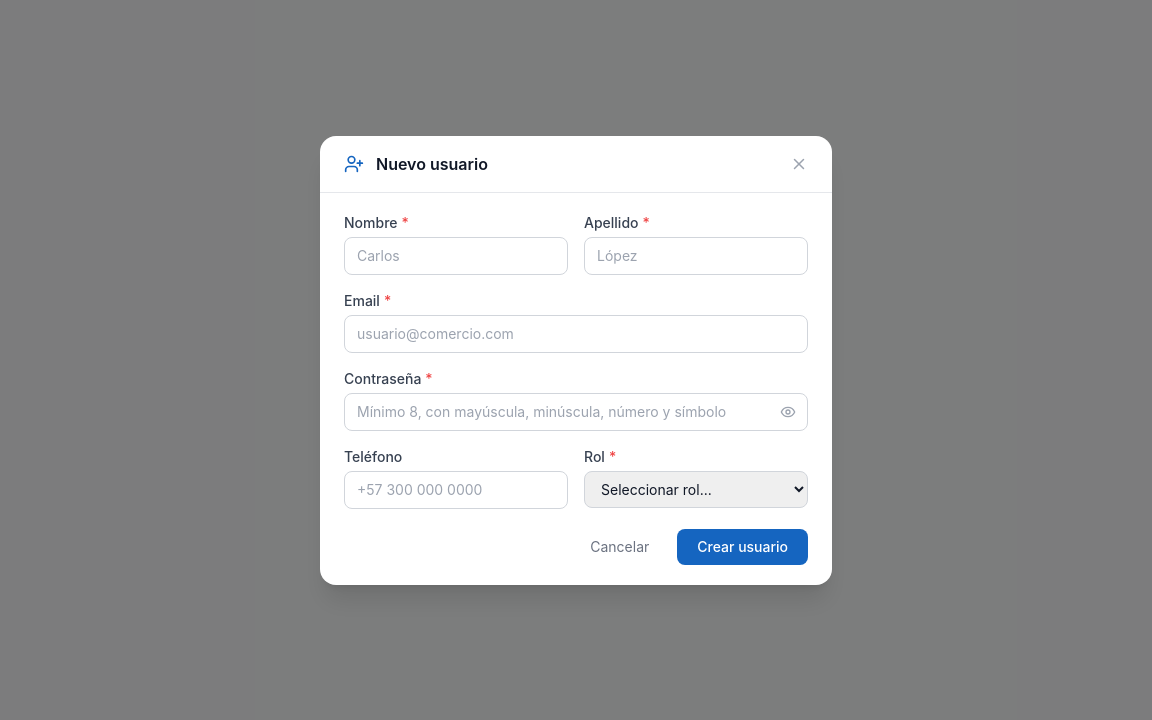
password policy in creation forms › rejects a weak password in UserFormModal before saving
Type "New" into the field with placeholder "Carlos" at (456, 256), box [344,236,568,274]
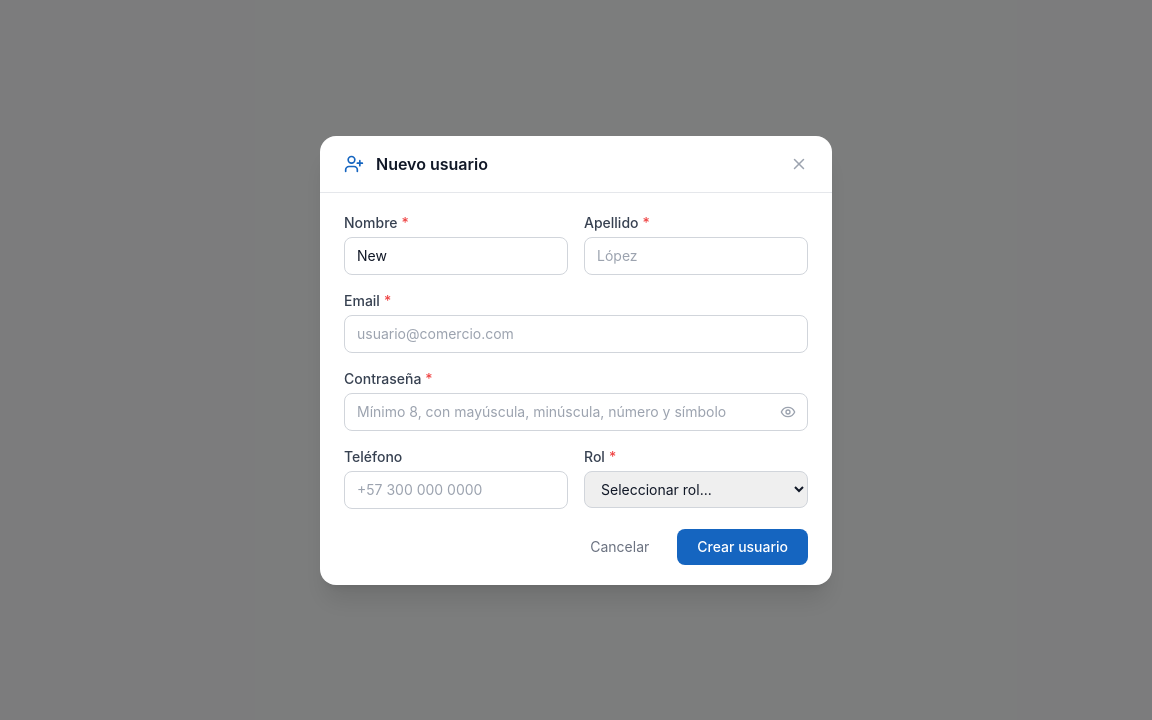
Type "User" into the field with placeholder "López" at (696, 256), box [584,236,808,274]
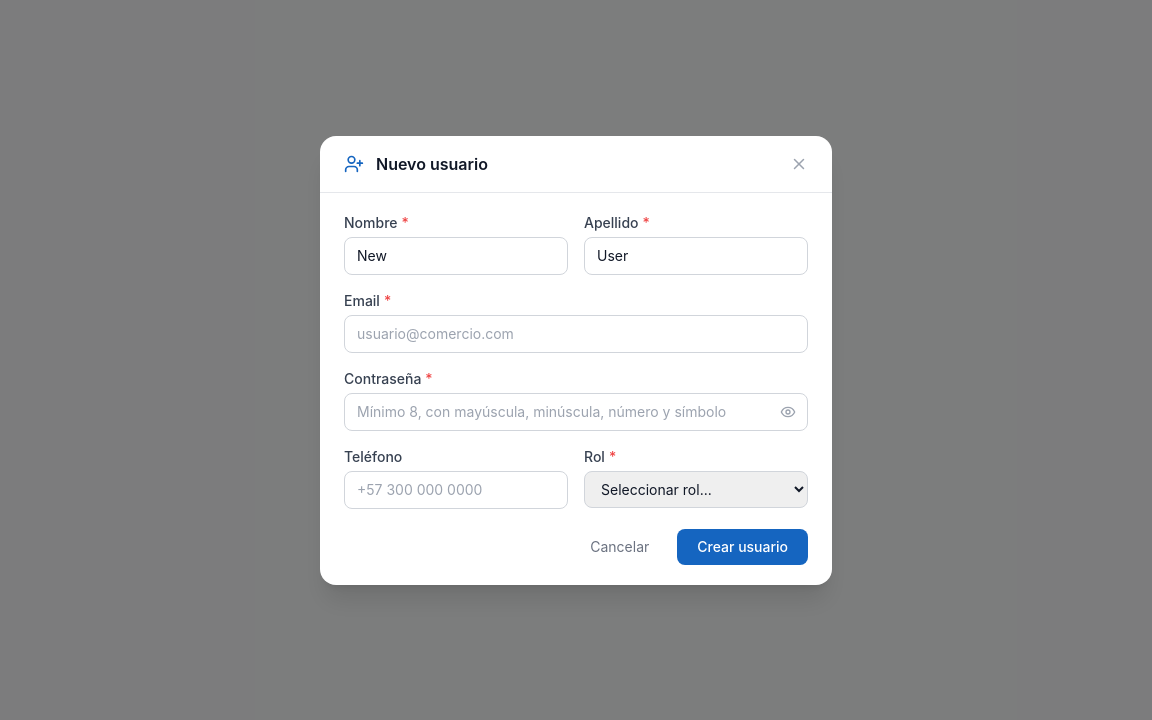
Type "new@test.local" into the field with placeholder "usuario@comercio.com" at (576, 334), box [344,314,808,352]
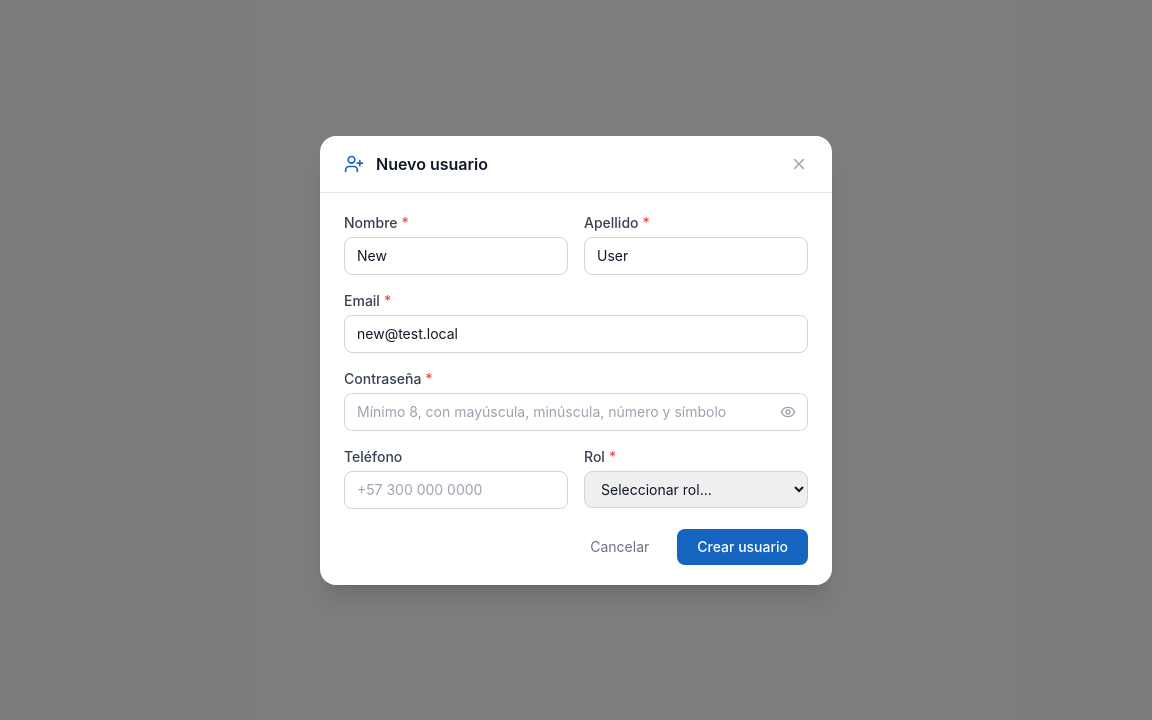
Type "password123" into the password field with placeholder "Mínimo 8, con mayúscula, minúscula, número y símbolo" at (576, 412), box [344,392,808,430]
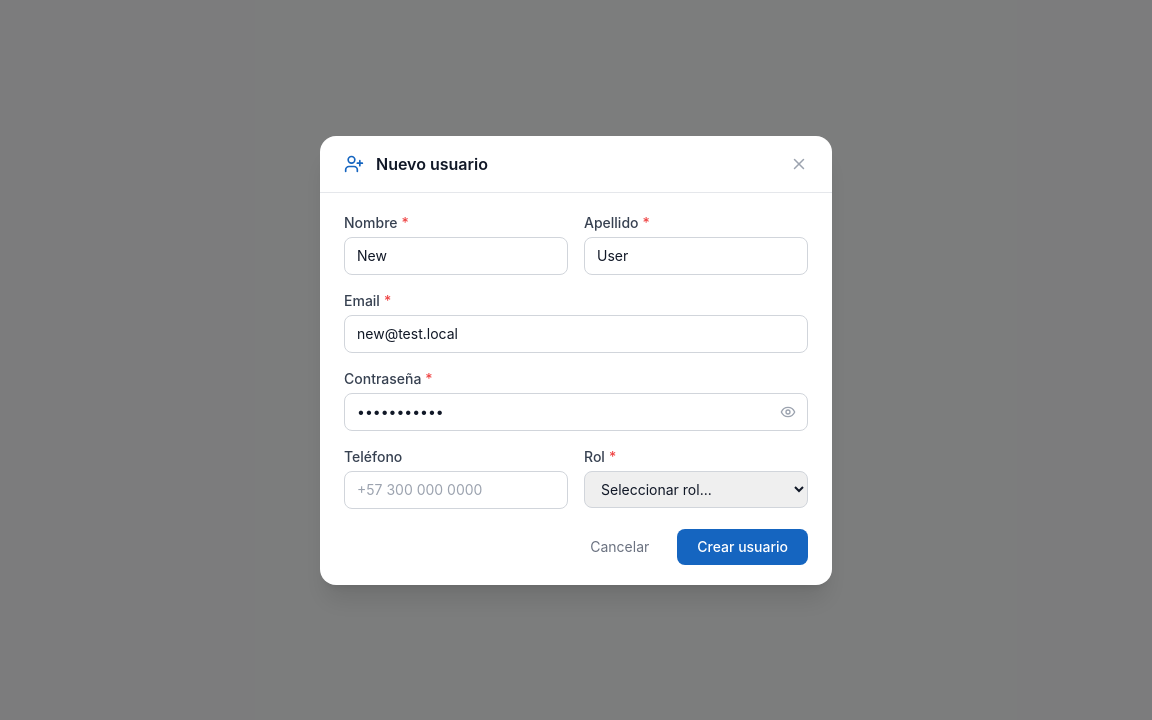
Click the button "Crear usuario" at (743, 546), box [677,528,808,564]
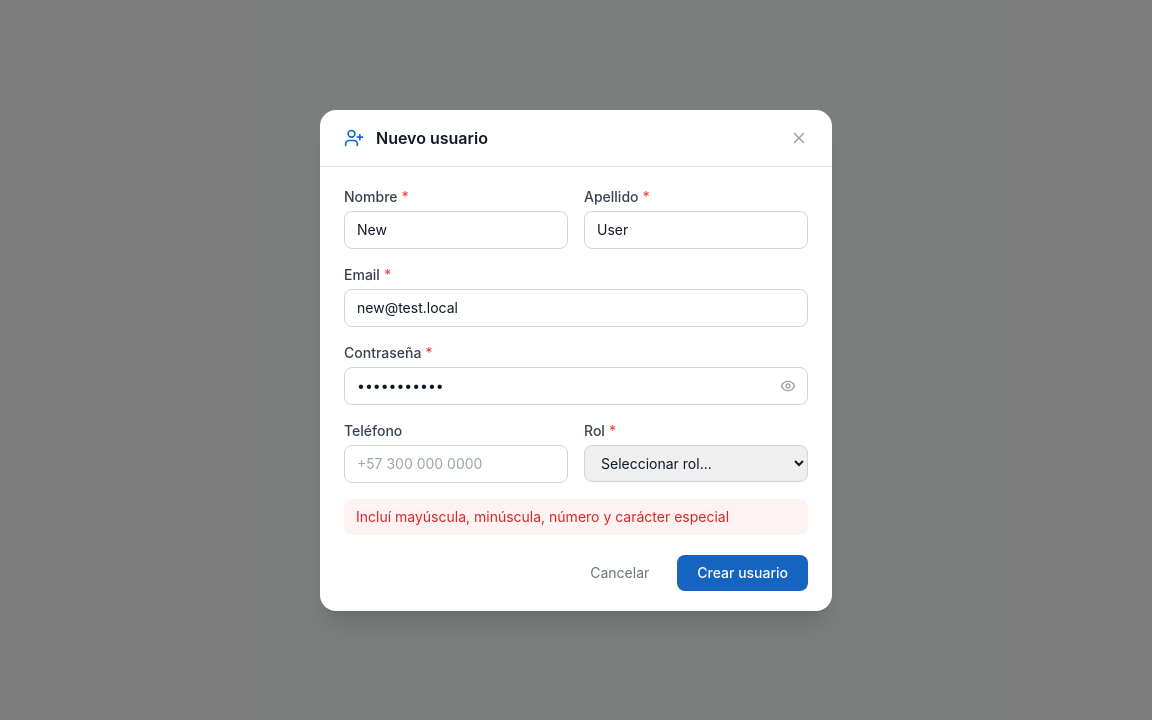
Check: the text "Incluí mayúscula, minúscula, número y carácter especial" is shown, box [344,498,808,534]
